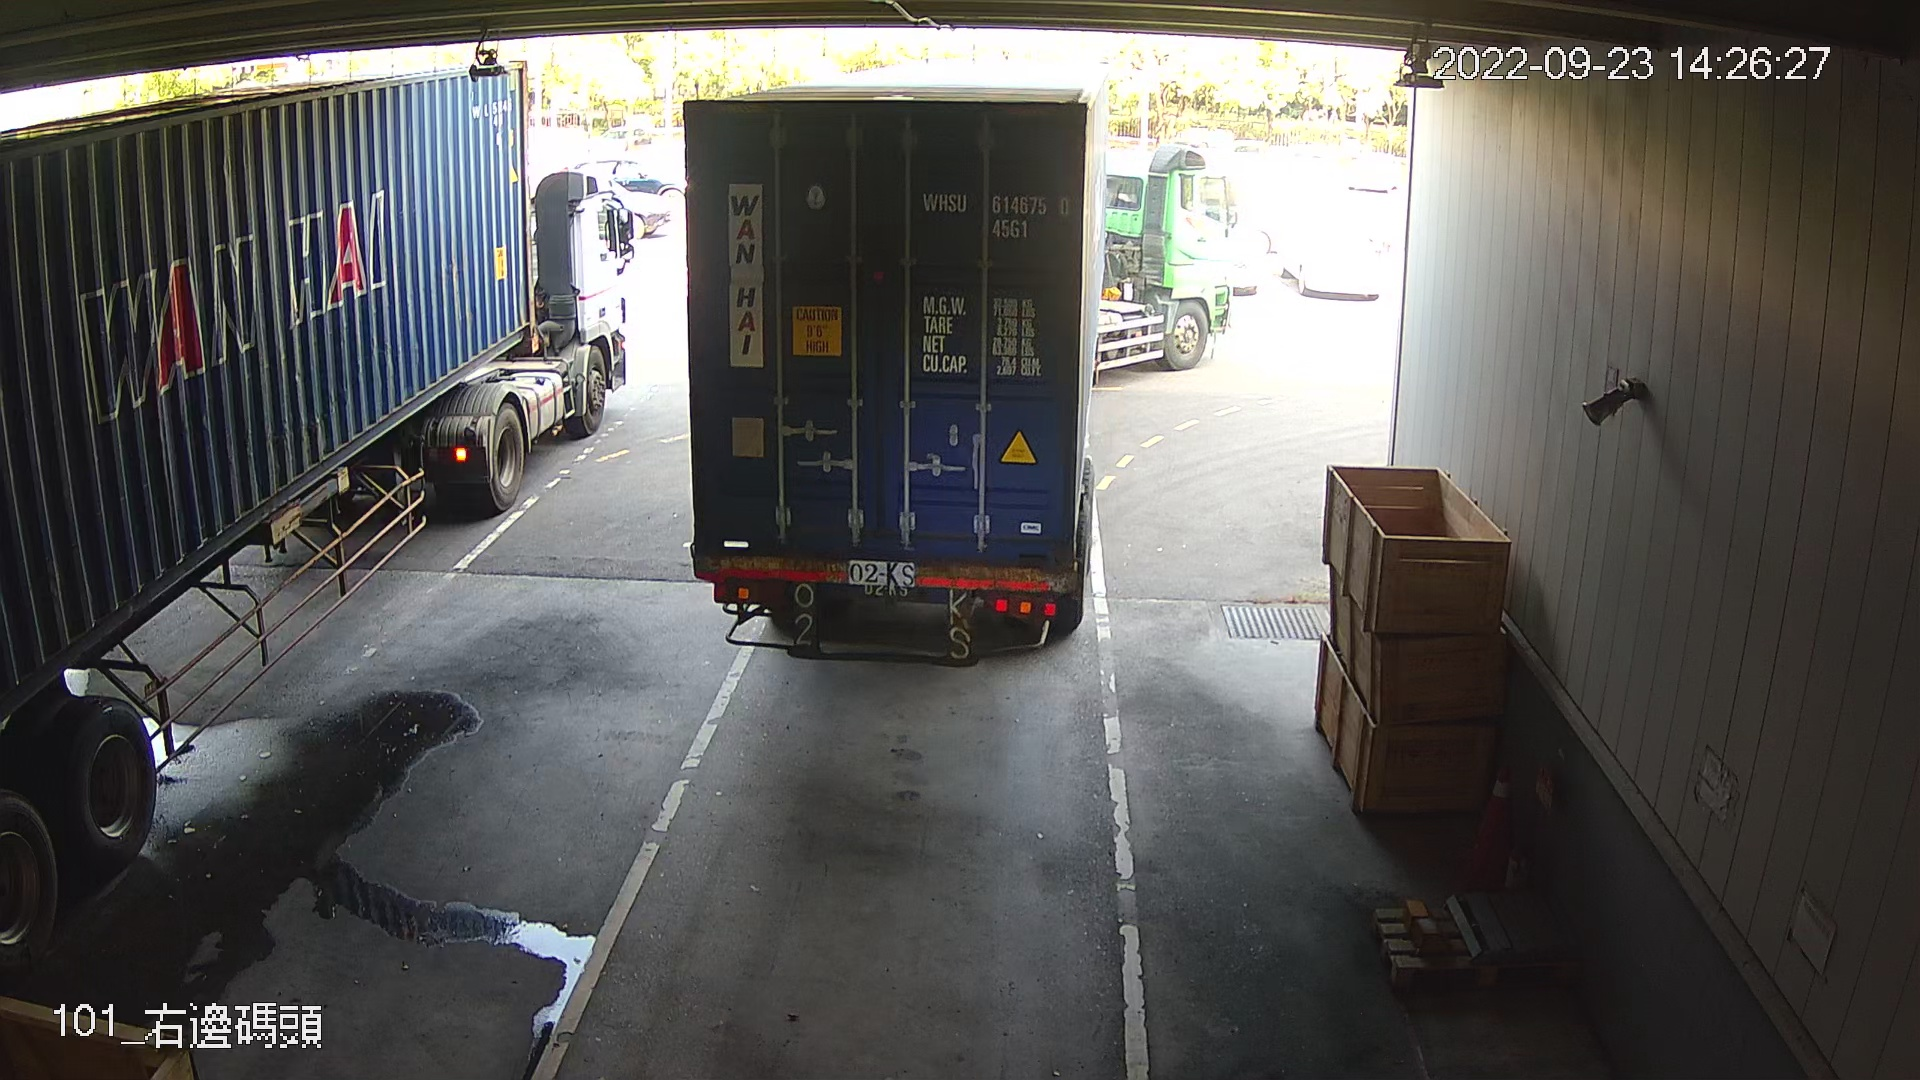container: (916, 179, 1076, 245)
